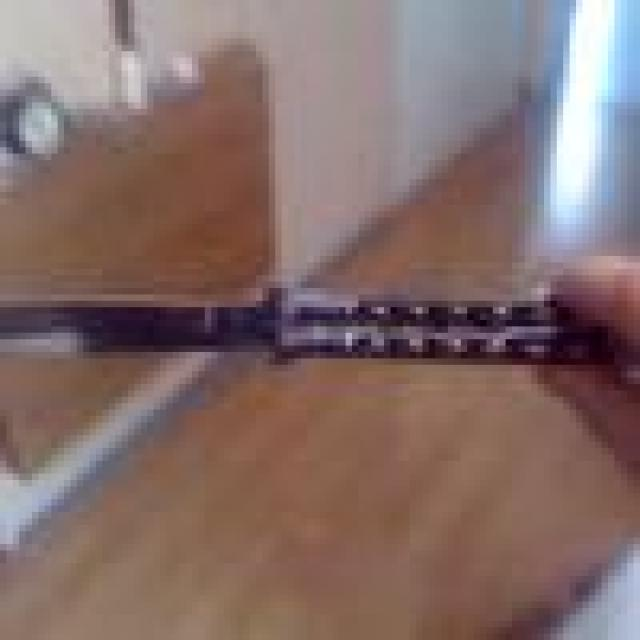weapon: (12, 269, 602, 365)
